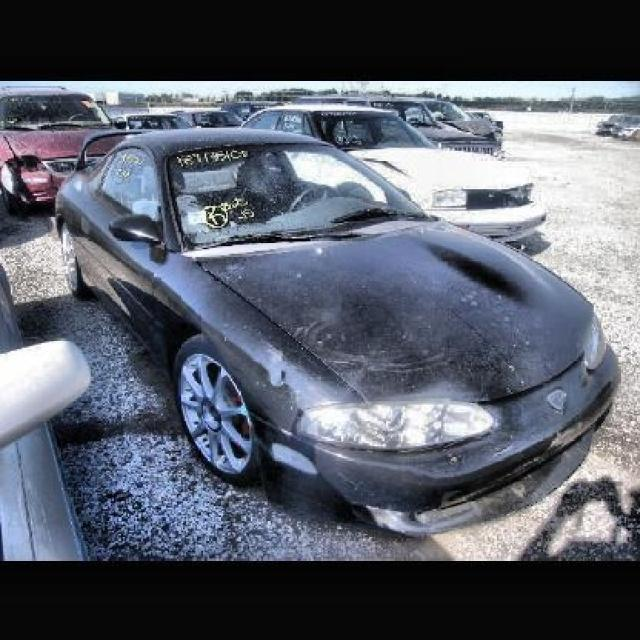black: (41, 117, 609, 513)
